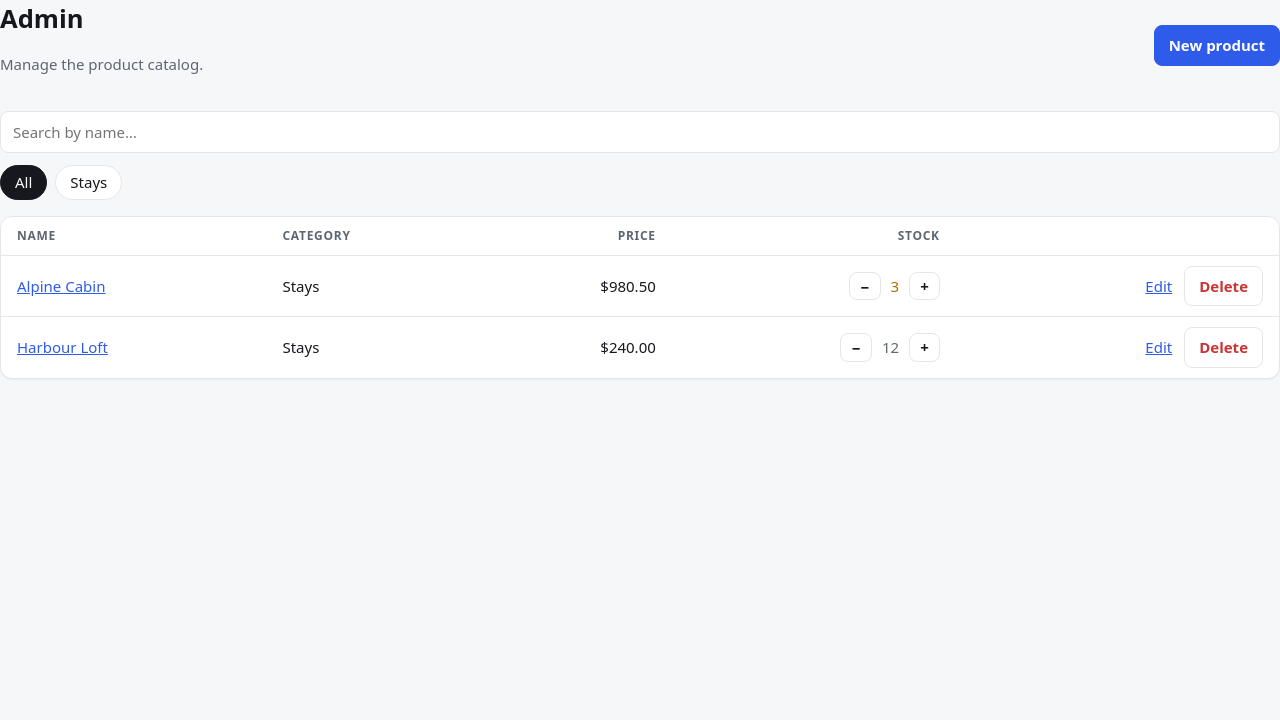
it: Admin catalog list › deletes a product after confirmation
This screenshot has width=1280, height=720.
Expected: the table is shown, [1, 217, 1279, 378]
Step 1. Click the button with aria-label "Delete Alpine Cabin" → (1224, 286), box [1184, 266, 1263, 306]
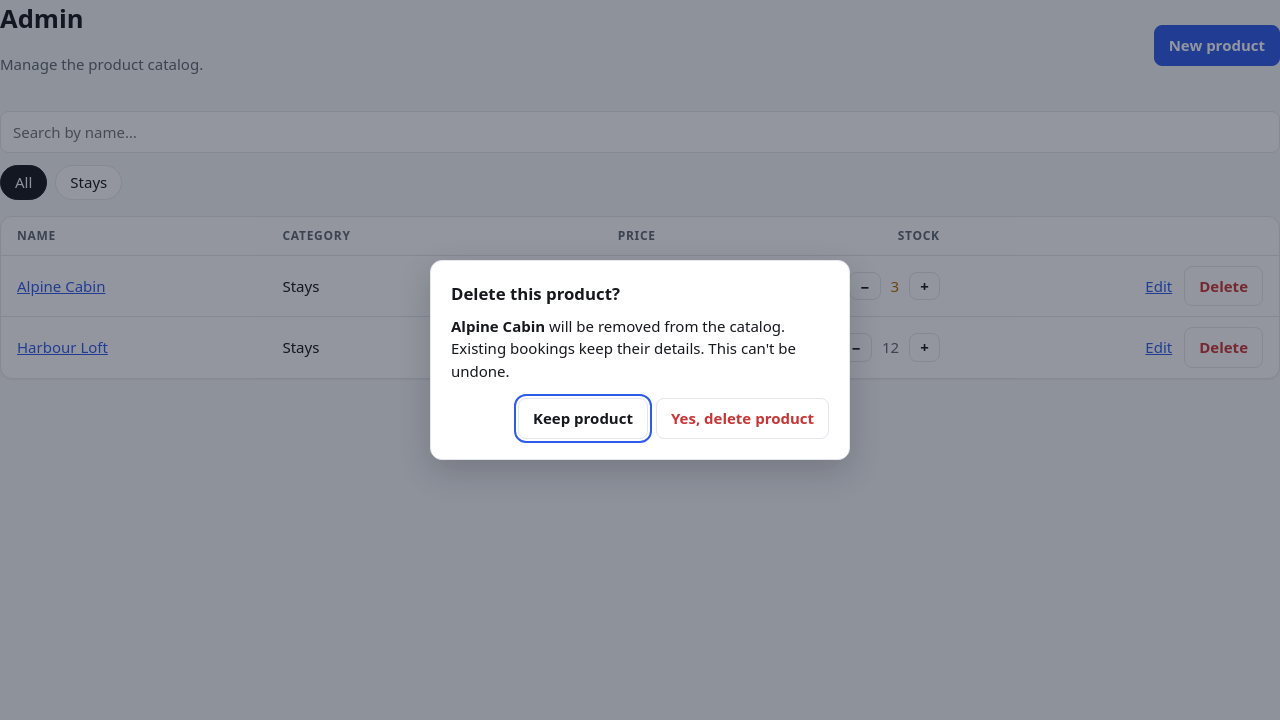
Expected: the dialog "Delete this product?" shows "Alpine Cabin will be removed from the catalog.", [430, 260, 850, 460]
Step 2. Click the button "Yes, delete product" → (742, 418), box [656, 398, 829, 439]
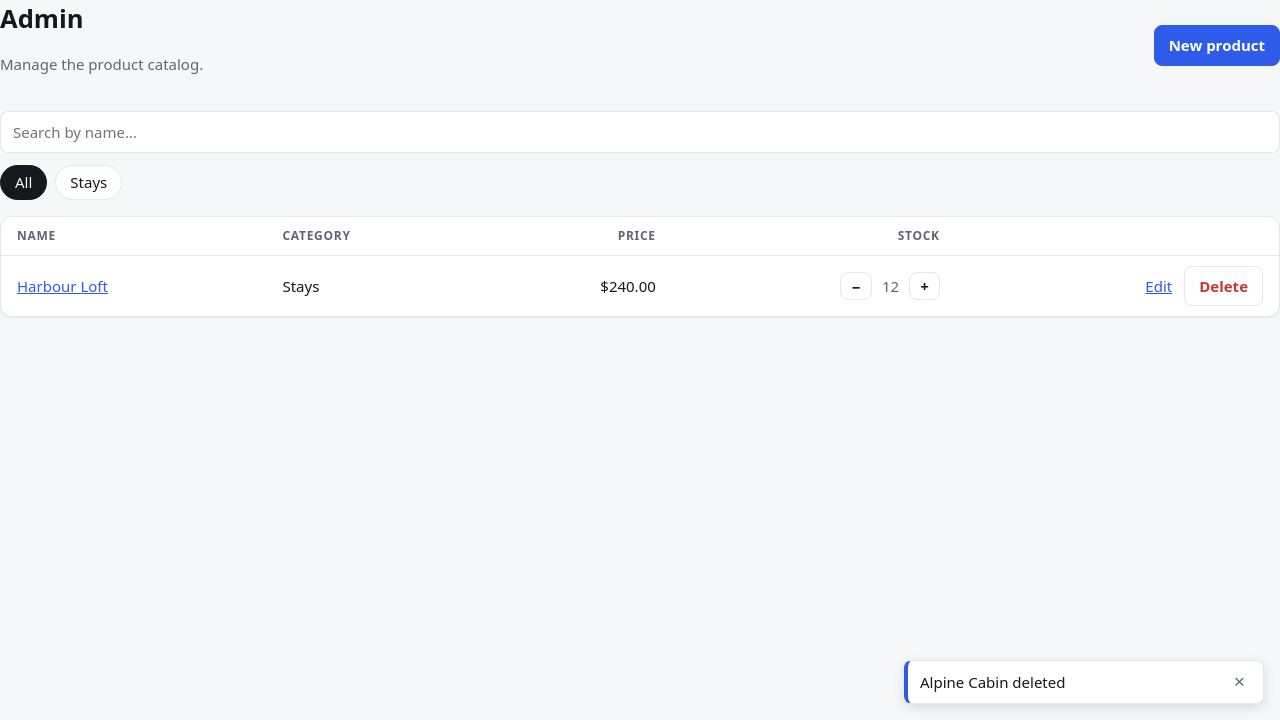
Expected: the column heading "Harbour Loft" is shown, [1, 256, 266, 316]
Expected: the text "Alpine Cabin deleted" is shown, [920, 670, 1066, 693]
Expected: the dialog is gone
